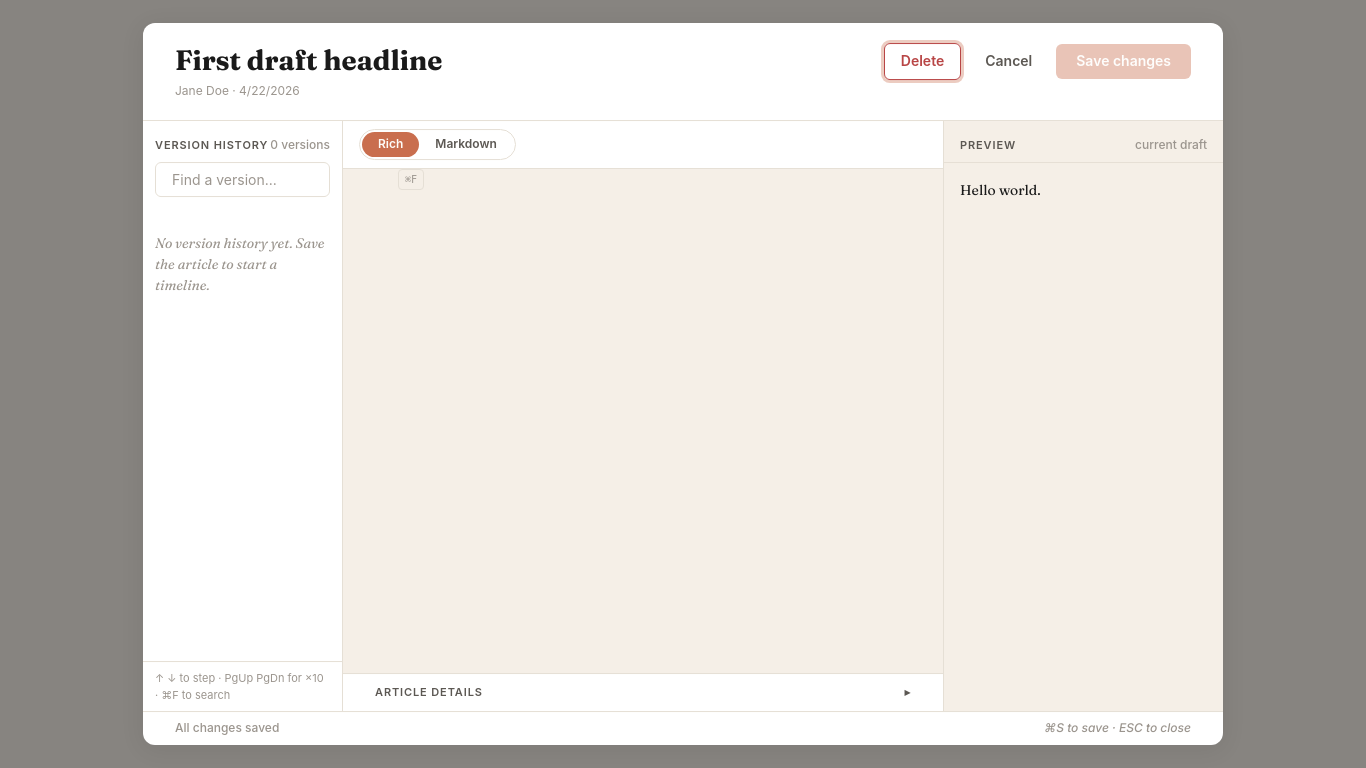
Scenario: <EditArticleModal> › Delete with unsaved changes shows the alt confirm copy
The width and height of the screenshot is (1366, 768).
# Mark dirty by editing the headline.
Click the button with test id "edit-article-details-toggle". click: (429, 692)
box: x1=343 y1=674 x2=943 y2=711
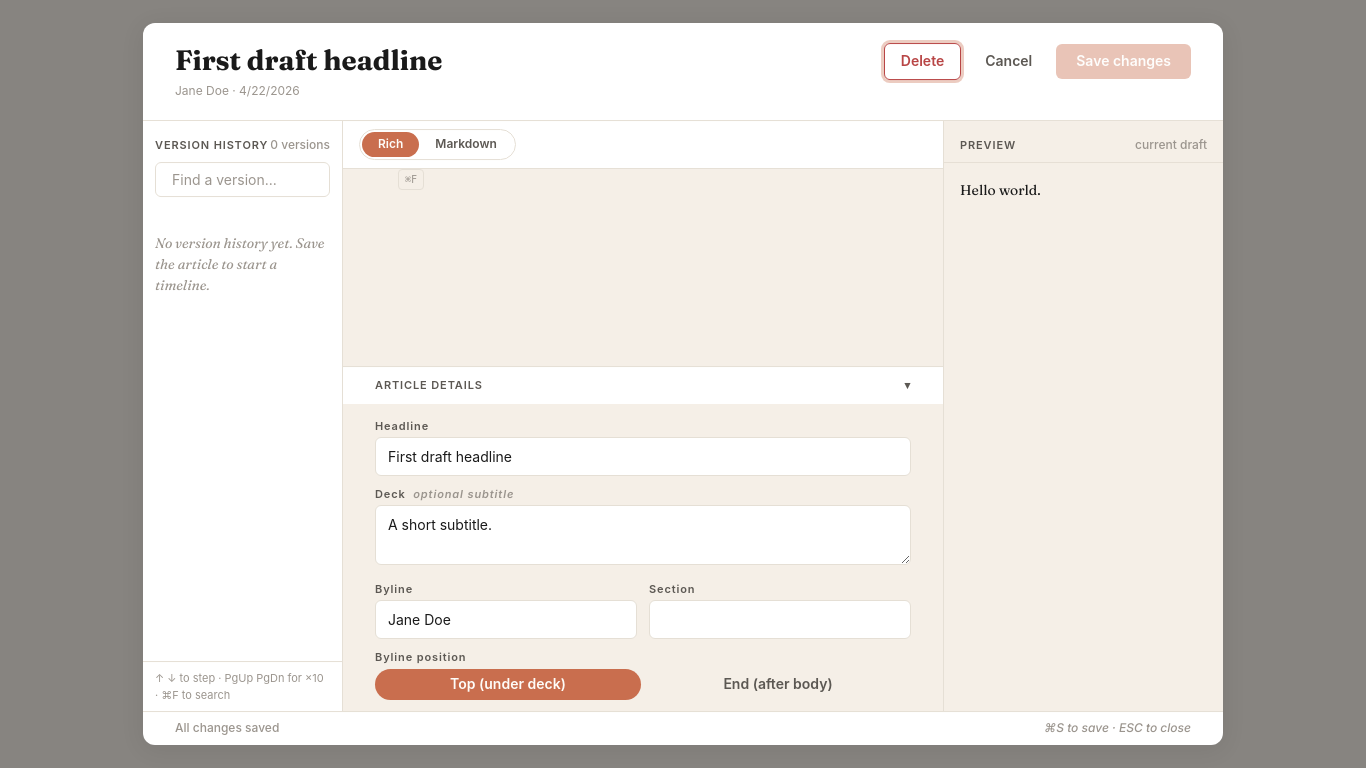
Replace the text in the field with test id "edit-article-headline" with "Changed". click: (643, 457)
box: x1=375 y1=437 x2=911 y2=476
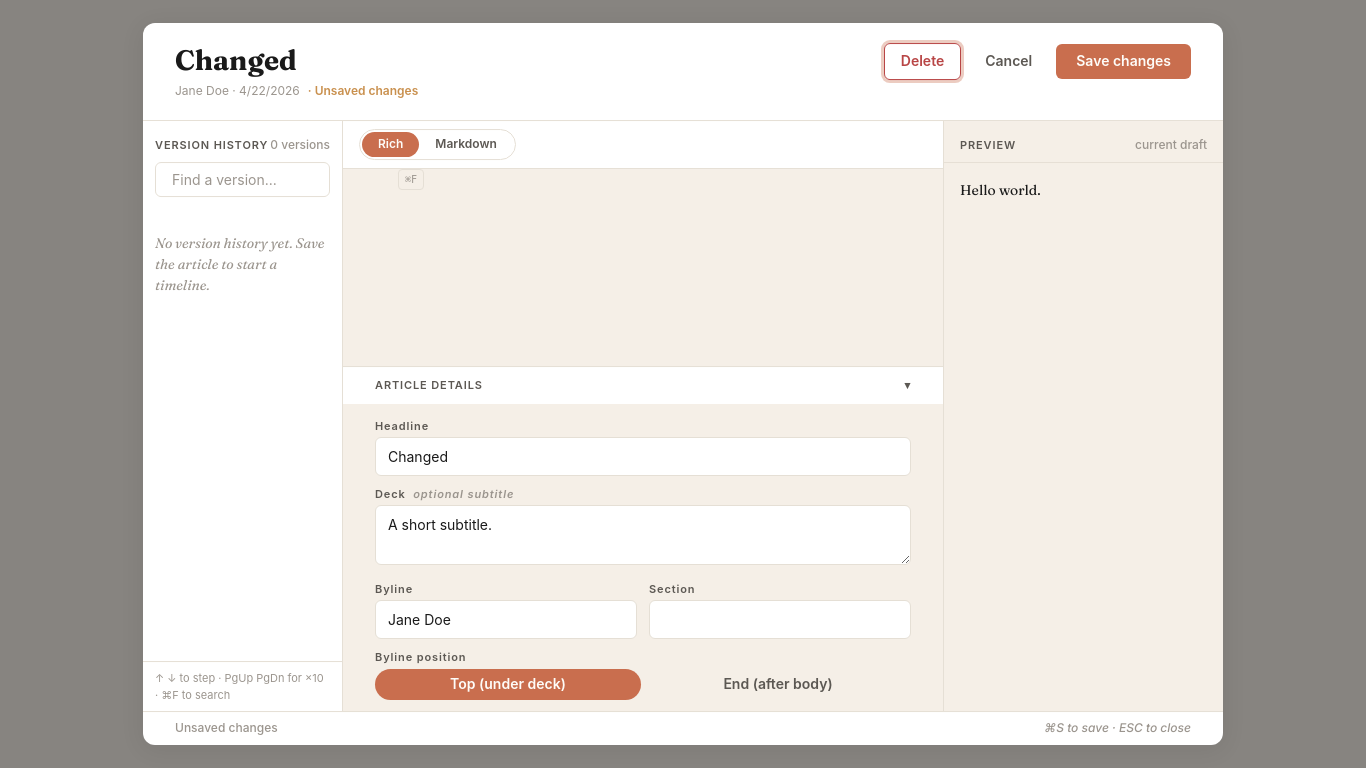
Click the button with test id "edit-article-delete". click: (922, 61)
box: x1=884 y1=43 x2=961 y2=80
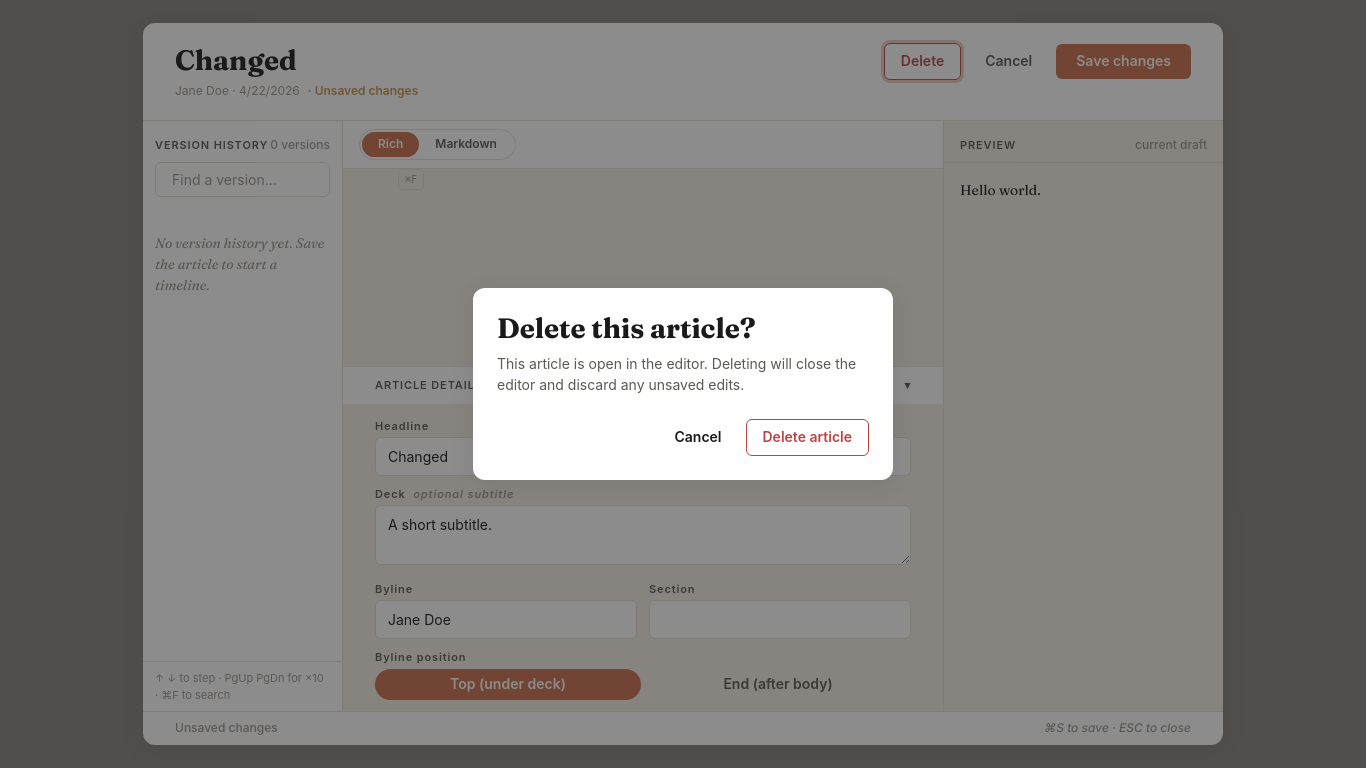
Check: the dialog with test id "edit-article-delete-confirm" shows "This article is open in the editor", box x1=497 y1=355 x2=856 y2=393
Check: the dialog with test id "edit-article-delete-confirm" shows "discard any unsaved edits", box x1=497 y1=355 x2=856 y2=393
